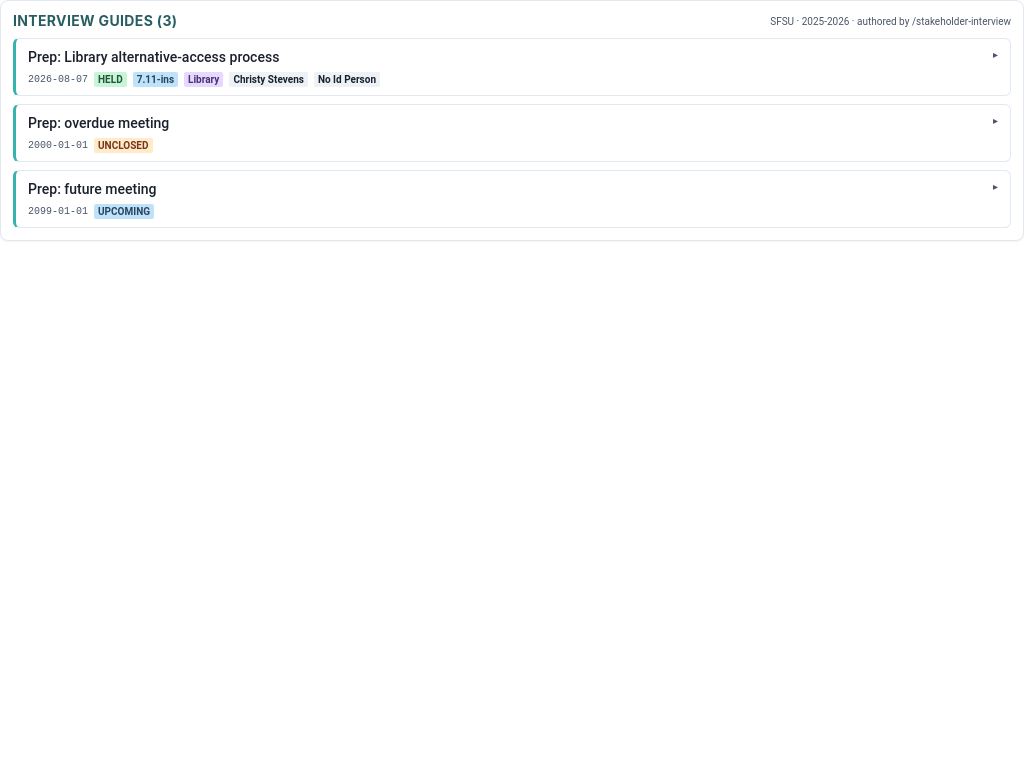
InterviewGuidesPanel › opens the read modal with the Markdown body and the closure pairing
Step 1. Click the button with aria-label "open interview guide: prep: library" → (154, 57), box [28,47,983,68]
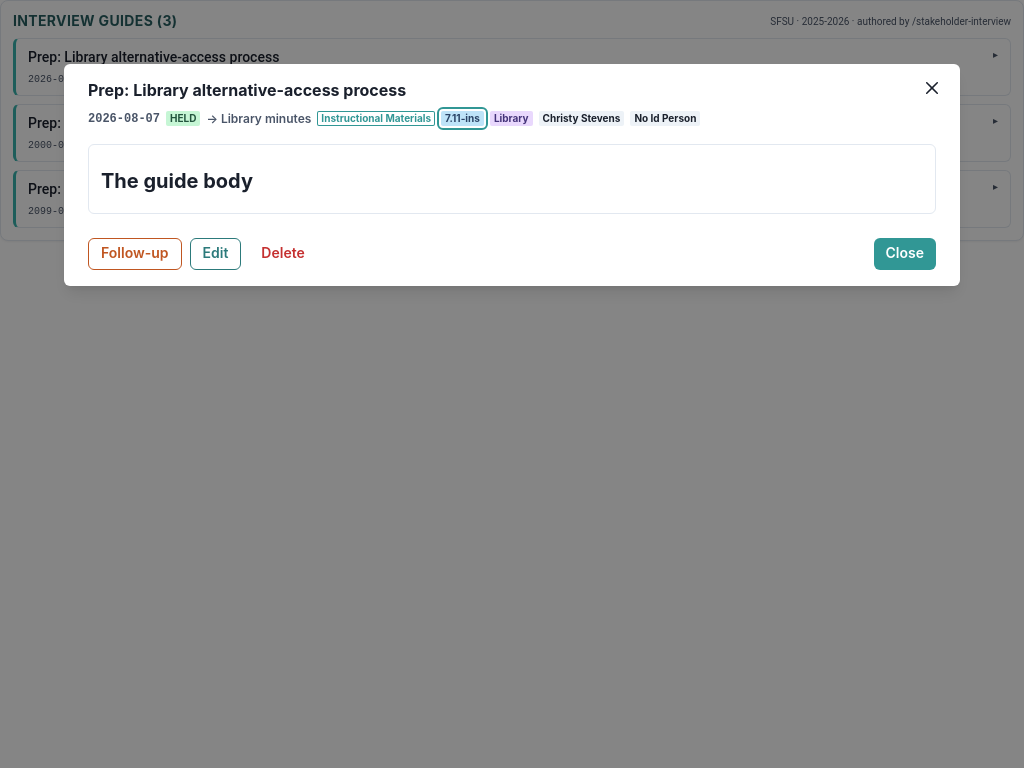
Expected: the dialog shows "The guide body", [101,169,253,193]
Expected: the dialog shows "Library minutes", [221,111,311,126]
Expected: the dialog shows "Instructional Materials", [321,112,431,124]
